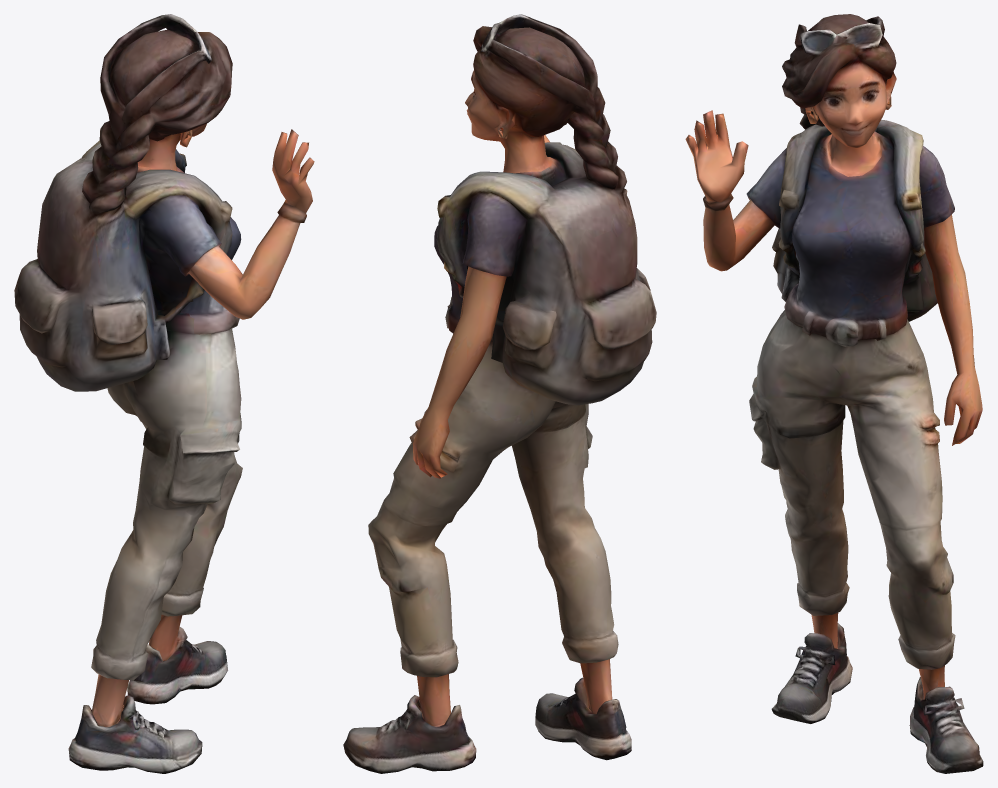
The model's file is wanderer2.glb.
The picture shows the model from 3 angles, left to right: view 1: azimuth 30°, elevation 25°; view 2: azimuth 150°, elevation 25°; view 3: azimuth 270°, elevation 25°; orthographic projection.
Visible parts, largest first — view 1: tripo_node_05f3ae34-d99b-4016-bbf7-bd861c39a732; view 2: tripo_node_05f3ae34-d99b-4016-bbf7-bd861c39a732; view 3: tripo_node_05f3ae34-d99b-4016-bbf7-bd861c39a732.
Part boxes in pixels (left/top/right/bottom): tripo_node_05f3ae34-d99b-4016-bbf7-bd861c39a732: left=14, top=14, right=314, bottom=773; tripo_node_05f3ae34-d99b-4016-bbf7-bd861c39a732: left=343, top=14, right=656, bottom=773; tripo_node_05f3ae34-d99b-4016-bbf7-bd861c39a732: left=685, top=14, right=983, bottom=773.
Bounding box in the file's own units: 0.3595 × 1 × 0.3794.
Materials: 1 (1 with a texture image).
